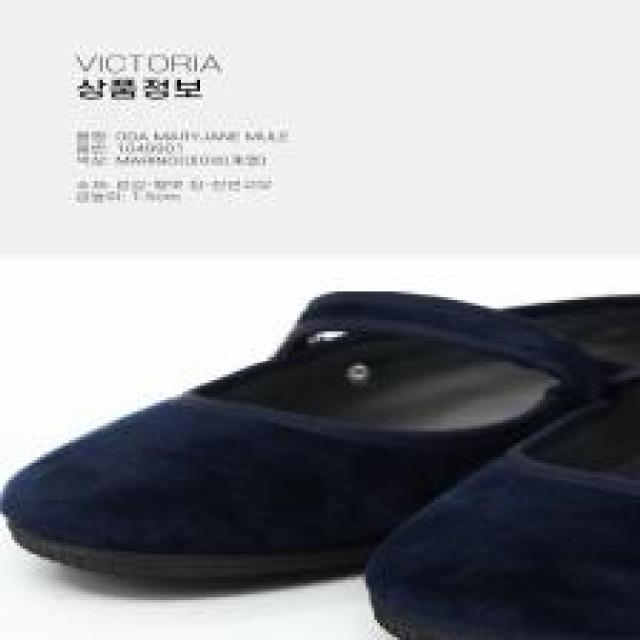shoe: (2, 292, 639, 580), (366, 366, 640, 640)
